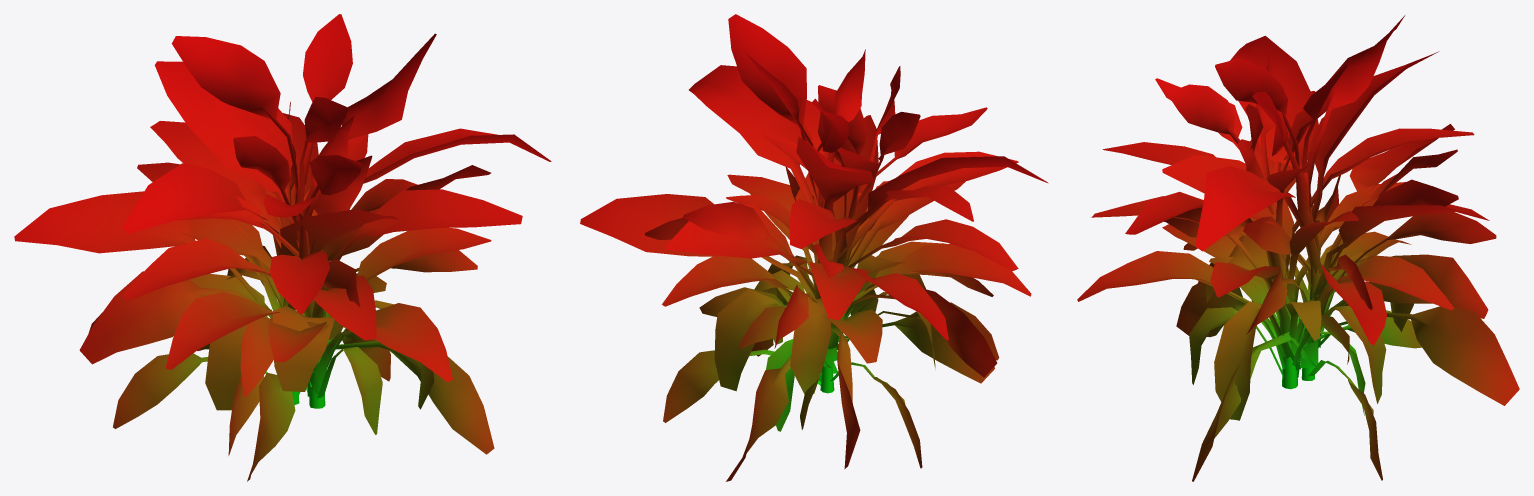
File: Spotted Dumbcane_LOD1_Var3_sjBmG.fbx
The picture shows the model from 3 angles, left to right: view 1: azimuth 30°, elevation 25°; view 2: azimuth 150°, elevation 25°; view 3: azimuth 270°, elevation 25°; orthographic projection. The views are drawn at different scales.
Visible parts, largest first — view 1: _d365_Var3_LOD1; view 2: _d365_Var3_LOD1; view 3: _d365_Var3_LOD1.
Part boxes in pixels (x1,y1,x2,y2): _d365_Var3_LOD1: (14, 14, 551, 481); _d365_Var3_LOD1: (580, 14, 1048, 481); _d365_Var3_LOD1: (1077, 15, 1519, 481).
Size of the model in its own units: 73.5 by 64.39 by 67.13.
